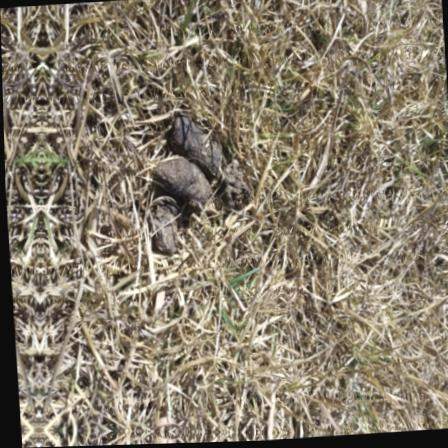dog-poop: (140, 117, 252, 254)
